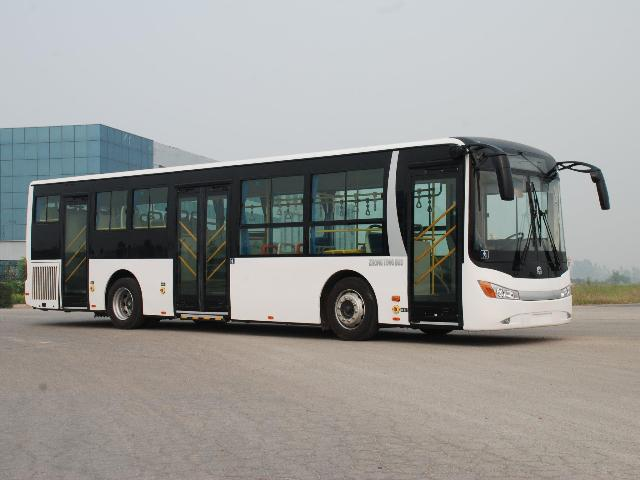bus: (23, 129, 612, 342)
